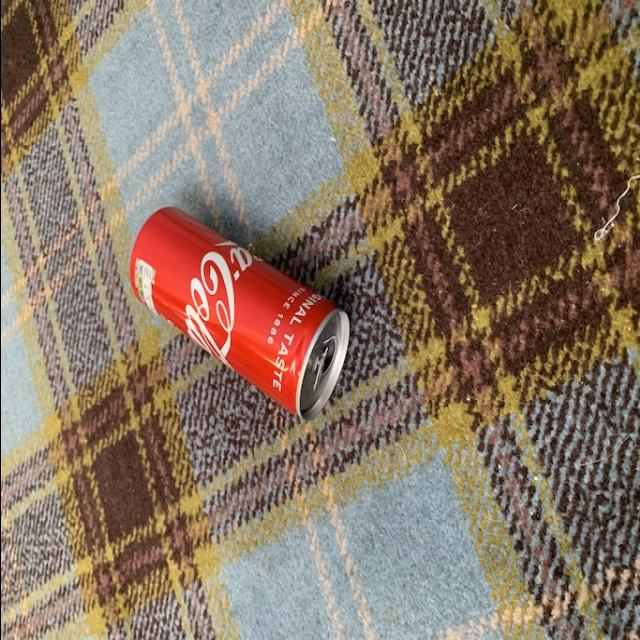Aluminum Can: (127, 206, 345, 418)
